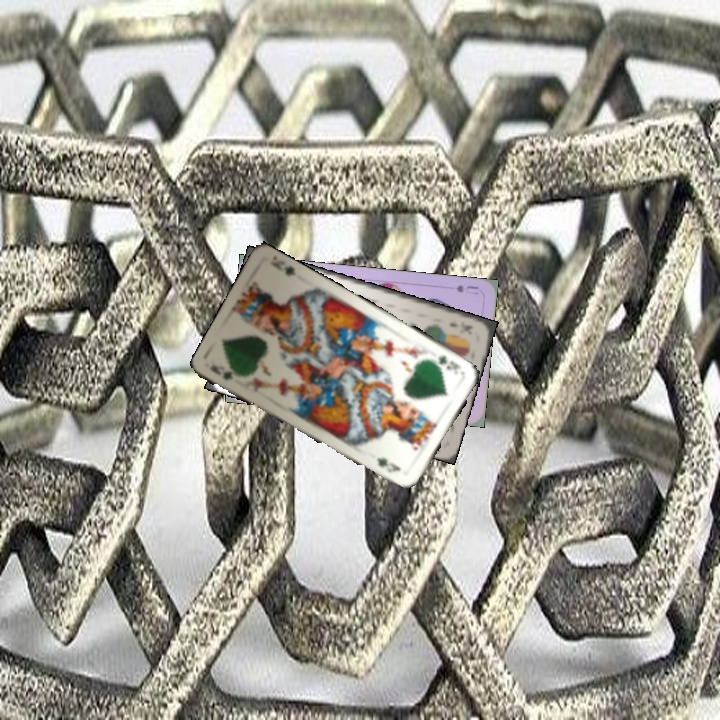EK: (445, 317, 475, 334)
GK: (434, 352, 463, 376), (218, 367, 245, 383)
SU: (452, 281, 481, 297)
